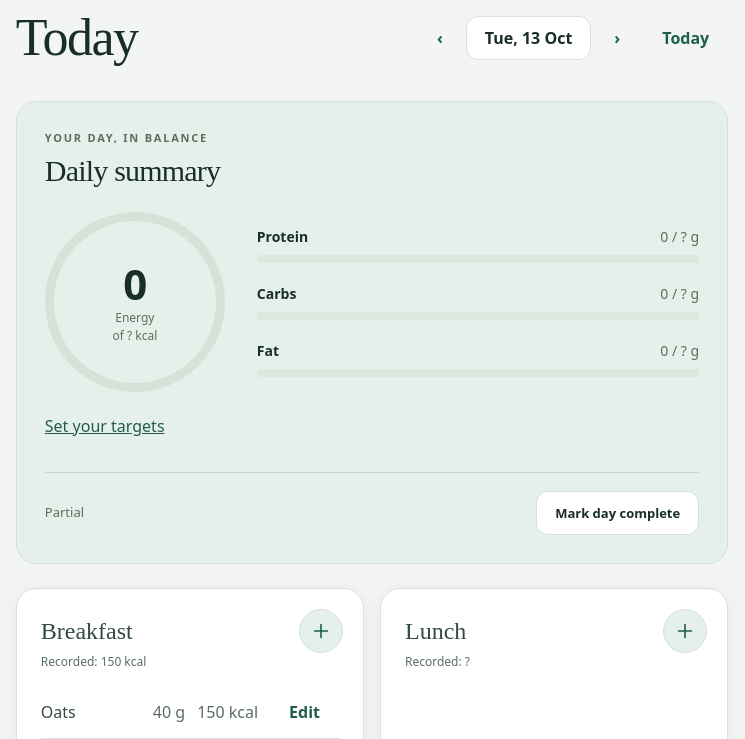
Test: DayPage › does not act on a stale meal id when the day rolled over before the click
Expected: the button with aria-label "Choose date 2026-10-13" is shown, [466, 16, 591, 60]
Click the button named "Add" in the row of "Breakfast". click: coordinates (321, 631)
box: [299, 609, 343, 653]
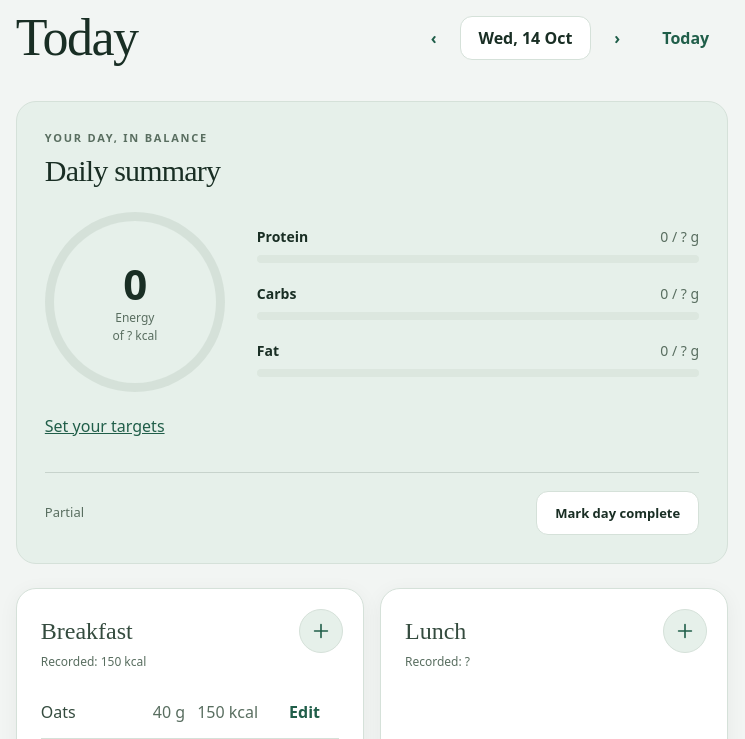
Expected: the button with aria-label "Choose date 2026-10-14" is shown, [460, 16, 591, 60]
